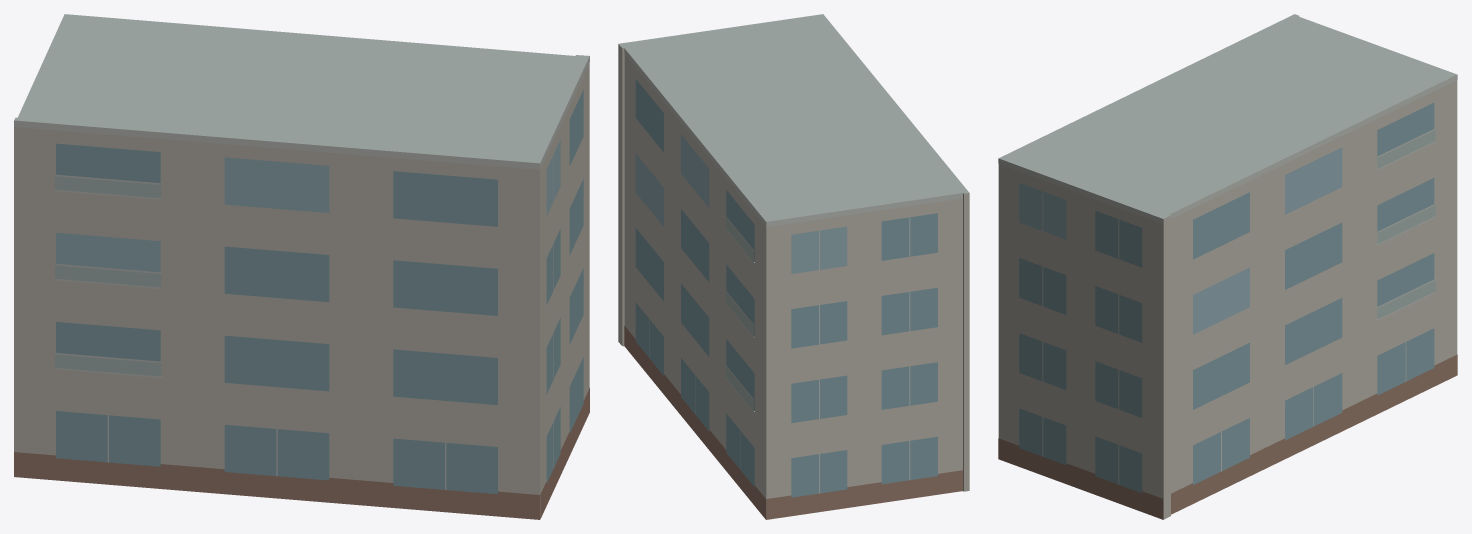
The model's file is survey-upis-32463609.glb.
3 renders of one model, left to right at view 1: azimuth 30°, elevation 25°; view 2: azimuth 150°, elevation 25°; view 3: azimuth 270°, elevation 25°, orthographic. The views are drawn at different scales.
Visible parts, largest first — view 1: survey-upis-32463609.tmp; view 2: survey-upis-32463609.tmp; view 3: survey-upis-32463609.tmp.
Part boxes in pixels (bbox=[...]): survey-upis-32463609.tmp: bbox=[14, 14, 589, 519]; survey-upis-32463609.tmp: bbox=[618, 14, 969, 519]; survey-upis-32463609.tmp: bbox=[998, 14, 1457, 519].
Bounding box in the file's own units: 19.78 × 13.53 × 18.71.
